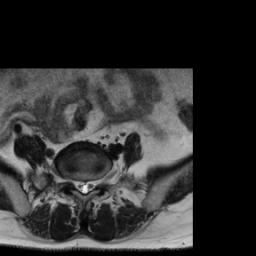CCS_normal: (81, 174, 88, 197)
LFS_normal: (96, 174, 103, 192)
LLS_normal: (89, 175, 95, 194)
RFS_stenosis: (66, 172, 74, 190)
RLS_normal: (74, 175, 81, 195)
